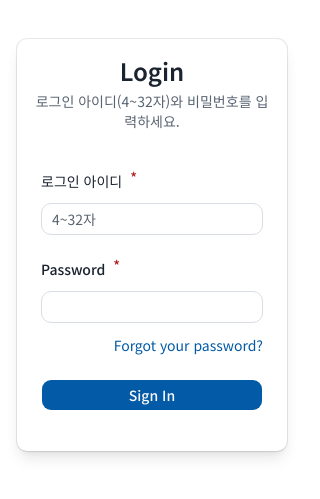
Test: Login Page › displays error message if login fails
The width and height of the screenshot is (320, 499).
Step 1. Type "wrong@example.com" into the field labelled "로그인 아이디 *" → point(152, 219), box [41,203,263,235]
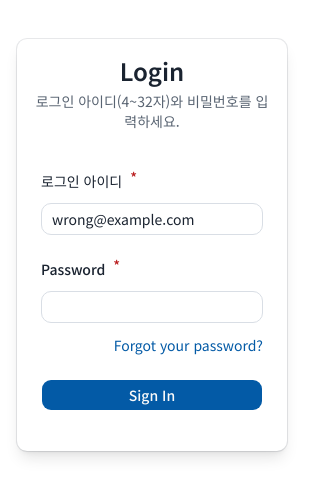
Step 2. Type "wrongpass" into the password field labelled "Password *" → point(152, 307), box [41,291,263,323]
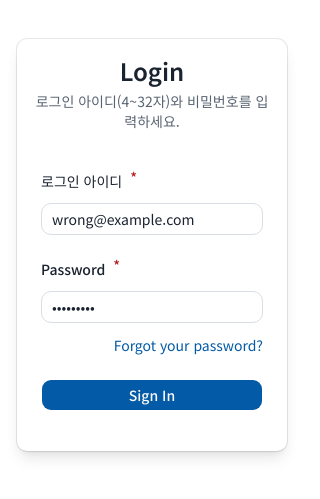
Step 3. Click the button "Sign In" → point(152, 395), box [41,379,263,411]
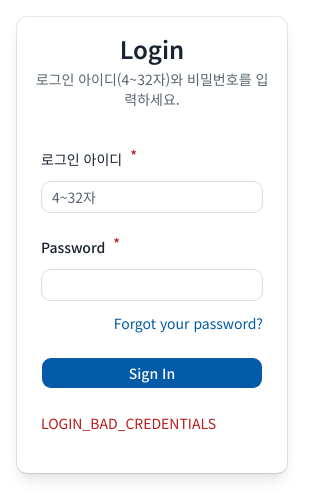
Result: the text "LOGIN_BAD_CREDENTIALS" is shown at [41,413,216,433]
